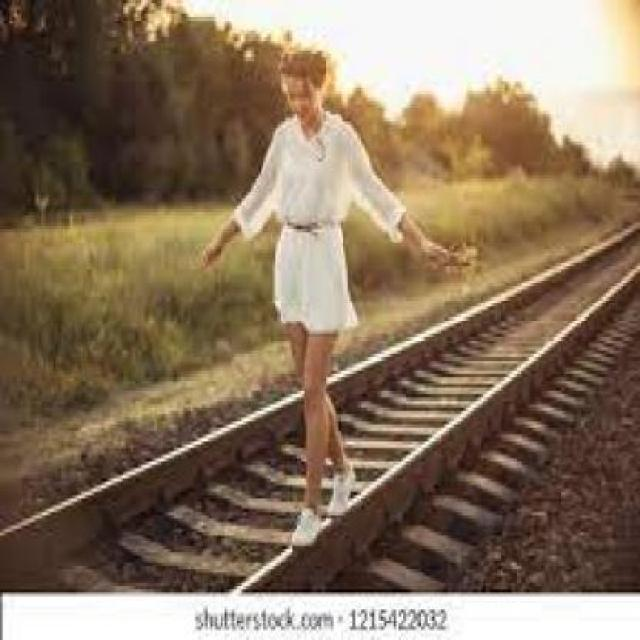people: (212, 38, 446, 544)
